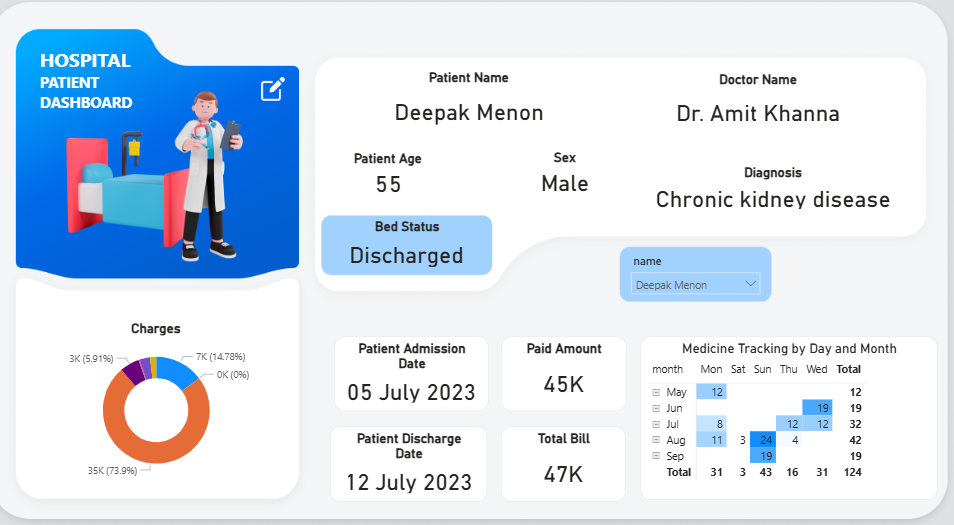

This screenshot's page, from the dashboard's own definition file:
{"tool":"powerbi","page":{"name":"Page 1","canvas":[1280,720],"ordinal":0},"visuals":[{"type":"image","box":[94.5,94.5,306.1,279.7],"z":0},{"type":"textbox","box":[94.5,81.3,155,115.3],"z":1000},{"type":"image","box":[353.1,125.7,79.5,30.2],"z":2000},{"type":"pivotTable","title":"Medicine Tracking by Day and Month","fields":{"Columns":["calander.day"],"Rows":["calander.month","Medical Stock.name"],"Values":["Sum(Medician patient.qty)"]},"box":[856,452,374,206],"z":3000},{"type":"card","title":"Patient Discharge Date","fields":{"Values":["Min(Patient.discharge_date)"]},"box":[464.3,564.3,198.2,94.6],"z":4000},{"type":"card","title":"Paid Amount","fields":{"Values":["Sum(Patient.paid_amount)"]},"box":[680,452,158,94],"z":5000},{"type":"card","title":"Patient Admission Date","fields":{"Values":["Min(Patient.admission_date)"]},"box":[470,452,194,94],"z":6000},{"type":"card","title":"Total Bill","fields":{"Values":["Sum(Patient.total_amount)"]},"box":[680.4,564.3,157.1,94.6],"z":7000},{"type":"card","title":" Patient Name","fields":{"Values":["Min(Patient.name)"]},"box":[464,116,350,82],"z":8000},{"type":"card","title":"Bed Status","fields":{"Values":["Min(Patient.Beds_status)"]},"box":[454,298,216,76],"z":9000},{"type":"card","title":"Doctor Name","fields":{"Values":["Min(Patient.Doctor_name)"]},"box":[838,118,334,80],"z":10000},{"type":"card","title":"Patient Age","fields":{"Values":["Max(Patient.age)"]},"box":[468.3,216.7,138.3,60],"z":11000},{"type":"card","title":"Diagnosis","fields":{"Values":["Min(Appointment.diagnosis)"]},"box":[856,234,334,62],"z":12000},{"type":"slicer","fields":{"Values":["Patient.name"]},"box":[830,338,192,70],"z":13000},{"type":"card","title":"Sex","fields":{"Values":["Min(Patient.gender)"]},"box":[692,216,138,60],"z":14000},{"type":"donutChart","title":"Charges","fields":{"Y":["Sum(Patient.room_charges)","CountNonNull(Appointment.fees)","Sum(Patient.surgery_charges)","Sum(Patient.test_charges)","Sum(Patient.medicine_charges)","Sum(Patient.other_charges)","Sum(Patient.doctor_fees)"]},"box":[74,430,344,206],"z":15000}]}

Visuals, with their boxes in screenshot pixels (x1, y1, x2, y2), scaled from the page's 1280x720 canvas onto the 954x525 screenshot:
image: 70:69:299:273
textbox: 70:59:186:143
image: 263:92:322:114
"Medicine Tracking by Day and Month" pivotTable: 638:330:917:480
"Patient Discharge Date" card: 346:411:494:480
"Paid Amount" card: 507:330:625:398
"Patient Admission Date" card: 350:330:495:398
"Total Bill" card: 507:411:624:480
" Patient Name" card: 346:85:607:144
"Bed Status" card: 338:217:499:273
"Doctor Name" card: 625:86:874:144
"Patient Age" card: 349:158:452:202
"Diagnosis" card: 638:171:887:216
slicer - Patient.name: 619:246:762:298
"Sex" card: 516:158:619:201
"Charges" donutChart: 55:314:312:464
